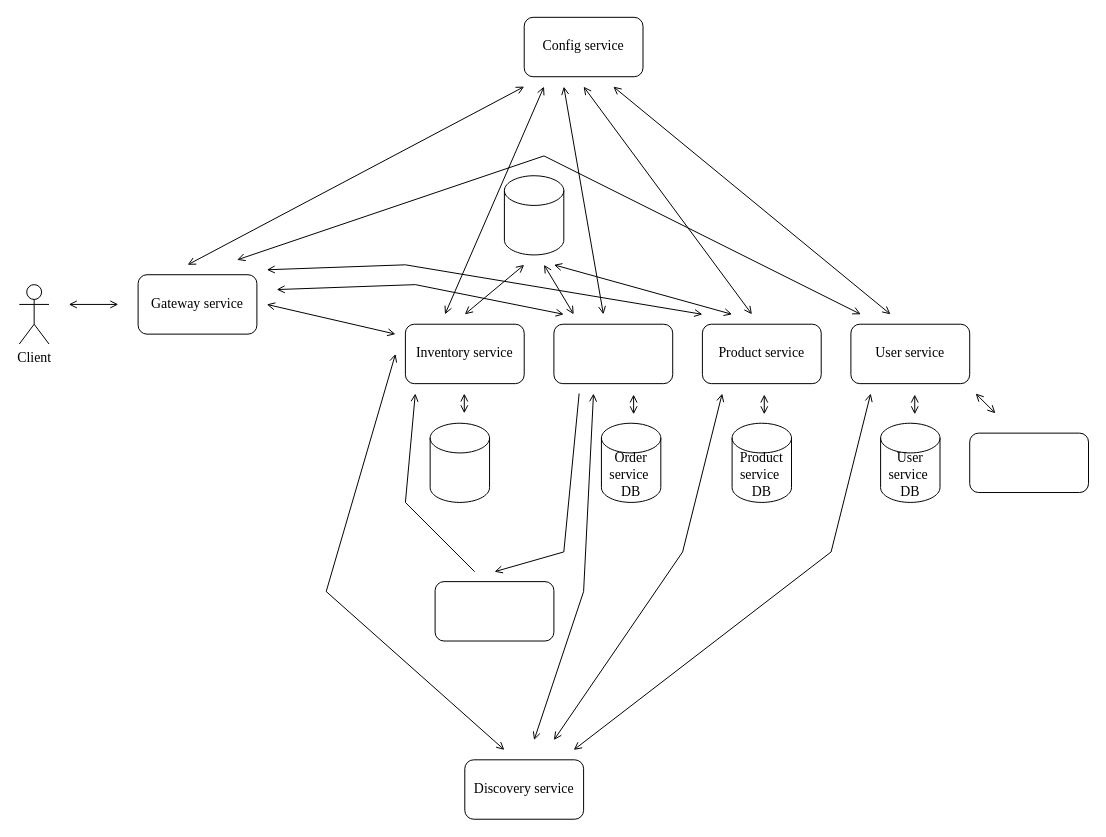
The diagram is 1106 pixels wide and 837 high, and some of its shapes have lost their labels. The box of each missing label's shape, as (x1, y1, x2, y2) in pixels:
Inventory service DB: (429, 422, 490, 502)
Kafka server: (434, 581, 554, 641)
Keycloak server: (969, 432, 1089, 493)
Order service: (553, 323, 673, 384)
Redis: (503, 175, 564, 255)
